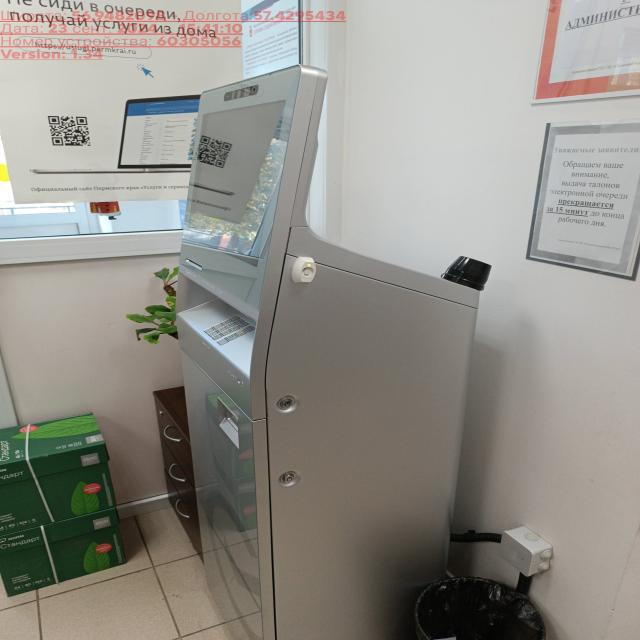bank: (176, 62, 467, 640)
